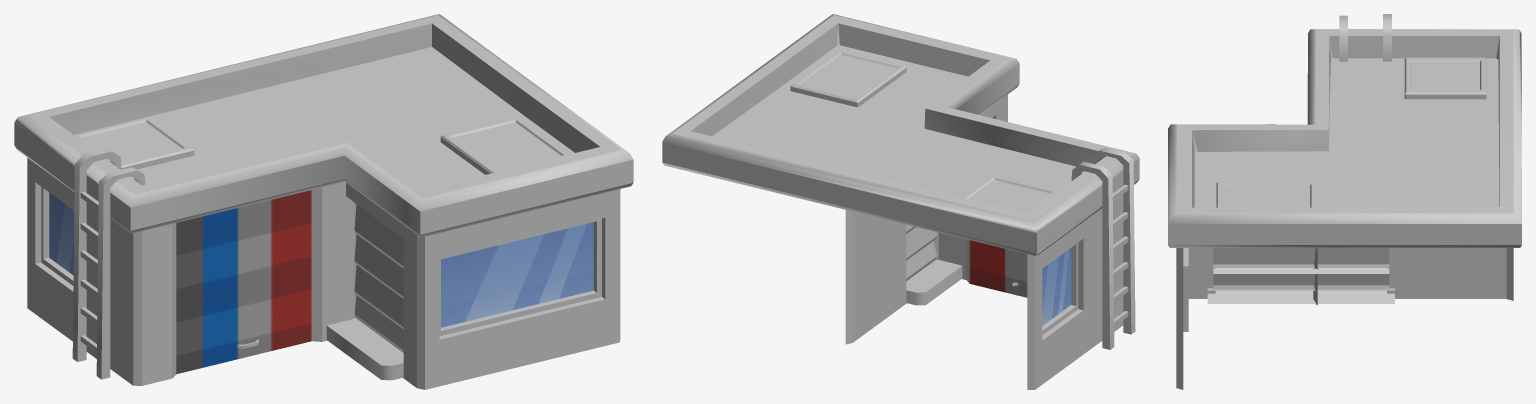
Rendered from Kiosk_1_D.fbx.
3 renders of one model, left to right at view 1: azimuth 30°, elevation 25°; view 2: azimuth 150°, elevation 25°; view 3: azimuth 270°, elevation 25°, orthographic. The views are drawn at different scales.
Parts seen in each view (by area): view 1: Kiosk_1_D.001; view 2: Kiosk_1_D.001; view 3: Kiosk_1_D.001.
Boxes of the visible parts, x1,y1,x2,y2 form: Kiosk_1_D.001: (14, 14, 633, 389); Kiosk_1_D.001: (662, 14, 1139, 389); Kiosk_1_D.001: (1168, 14, 1521, 389).
Size of the model in its own units: 573 by 256 by 438.
